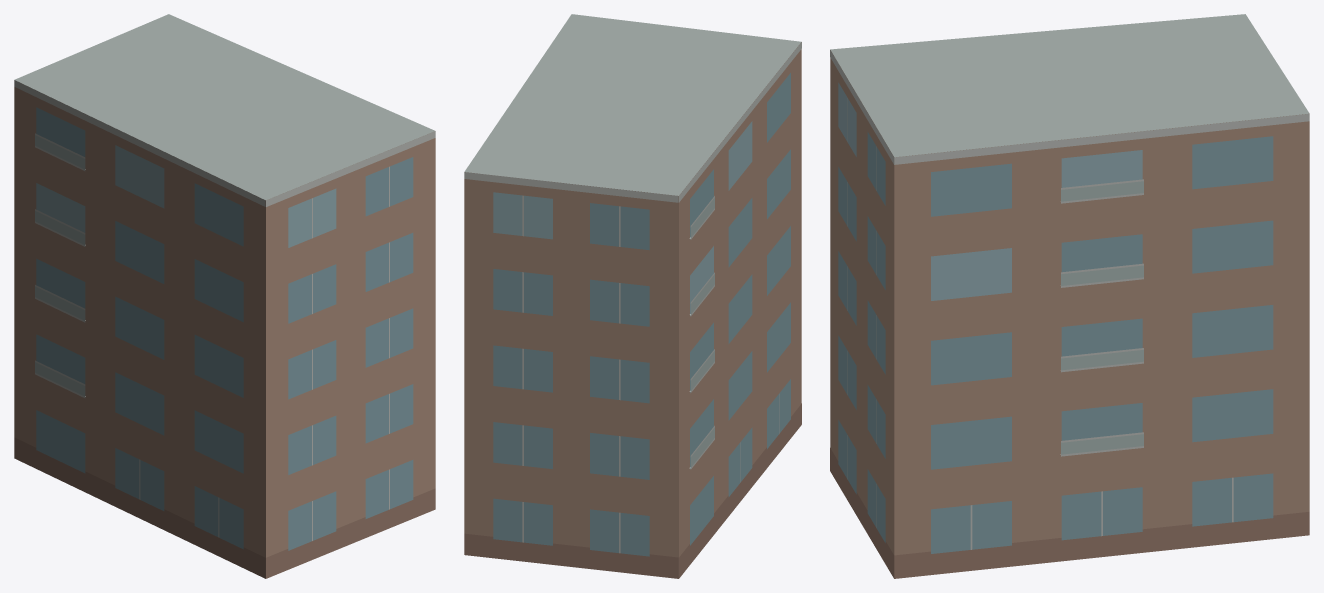
Rendered from survey-upis-32693520.glb.
3 views of the same model, side by side, from view 1: azimuth 30°, elevation 25°; view 2: azimuth 150°, elevation 25°; view 3: azimuth 270°, elevation 25° (orthographic). The views are drawn at different scales.
Parts seen in each view (by area): view 1: survey-upis-32693520.tmp; view 2: survey-upis-32693520.tmp; view 3: survey-upis-32693520.tmp.
Boxes of the visible parts, x1=… form: survey-upis-32693520.tmp: x1=14, y1=14, x2=435, y2=578; survey-upis-32693520.tmp: x1=464, y1=14, x2=801, y2=578; survey-upis-32693520.tmp: x1=830, y1=14, x2=1309, y2=578.
Bounding box in the file's own units: 9.85 × 13.5 × 13.93.
